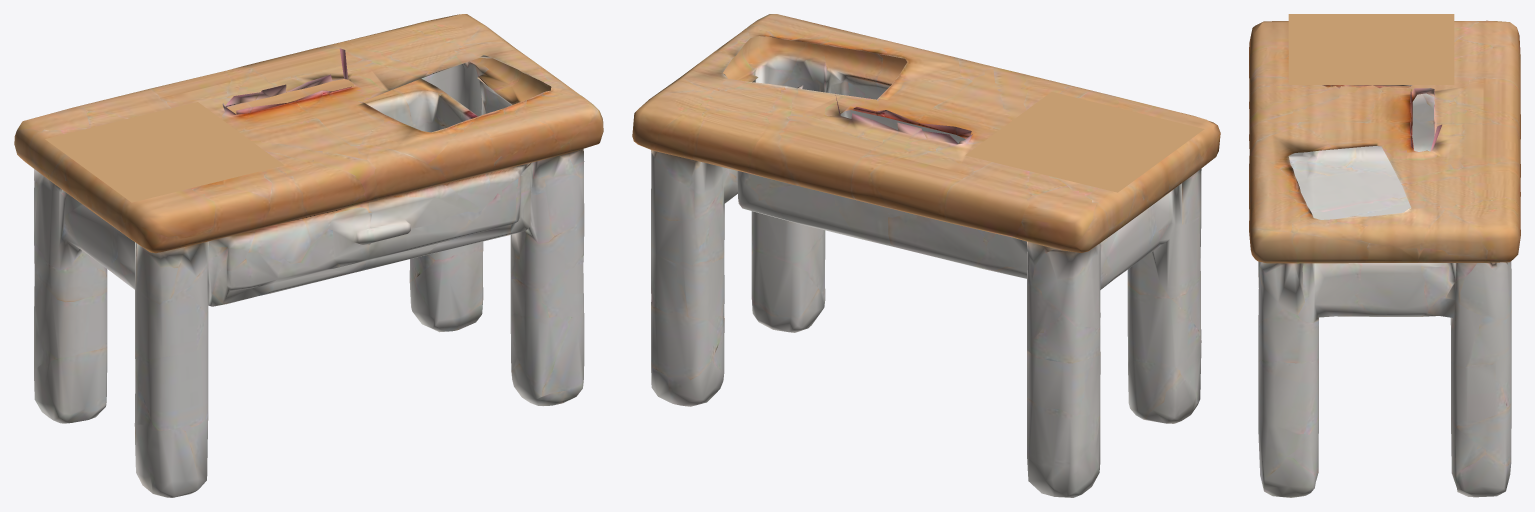
File: desk.glb
3 renders of one model, left to right at view 1: azimuth 30°, elevation 25°; view 2: azimuth 150°, elevation 25°; view 3: azimuth 270°, elevation 25°, orthographic. The views are drawn at different scales.
Bounding box in the file's own units: 1.9 × 1.27 × 1.02.
1 material, 1 textured.
